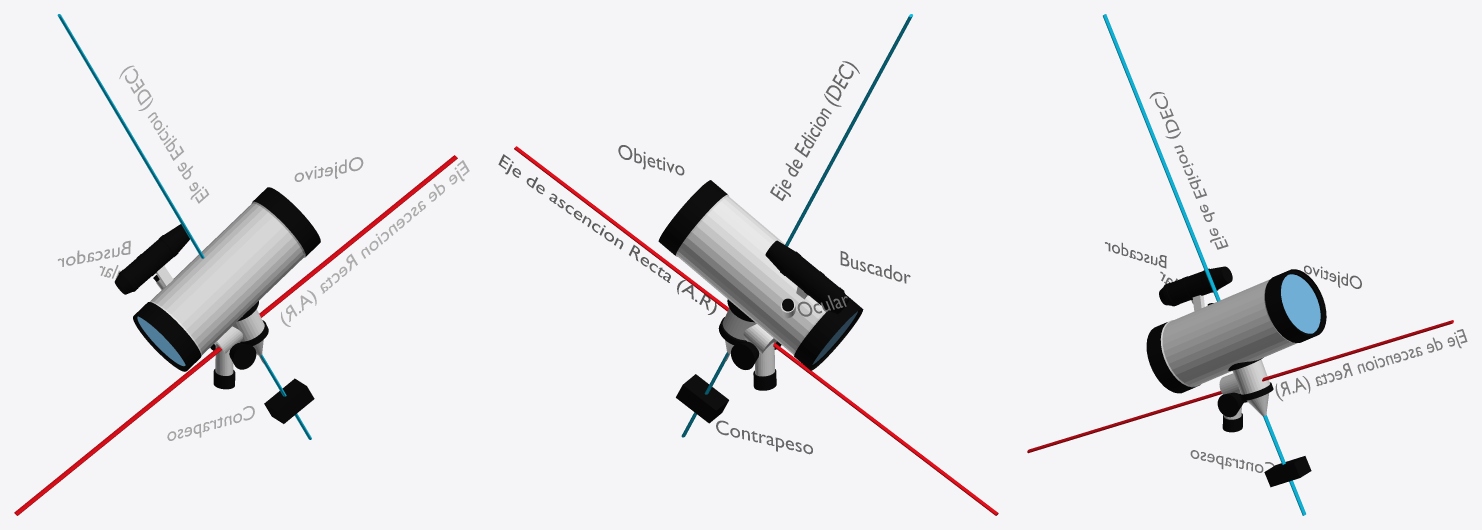
3 views of the same model, side by side, from view 1: azimuth 30°, elevation 25°; view 2: azimuth 150°, elevation 25°; view 3: azimuth 330°, elevation 25° (orthographic). The views are drawn at different scales.
Visible parts, largest first — view 1: Cilindro, Cilindro.011, Cilindro.005, Cilindro.012, Cubo.001, Texto.005, Texto.001, Cilindro.014, Cilindro.002; view 2: Cilindro, Cilindro.011, Cilindro.005, Cubo.001, Cilindro.012, Texto.005, Texto.001, Cilindro.014; view 3: Cilindro, Cilindro.012, Cilindro.011, Cilindro.005, Texto.005, Texto.001, Cubo.001, Cilindro.002, Cilindro.014.
Boxes of the visible parts, left/top/right/bottom form: Cilindro: left=133, top=187, right=320, bottom=371; Cilindro.011: left=14, top=155, right=457, bottom=515; Cilindro.005: left=114, top=224, right=189, bottom=294; Cilindro.012: left=57, top=14, right=311, bottom=439; Cubo.001: left=264, top=378, right=314, bottom=423; Texto.005: left=281, top=160, right=469, bottom=326; Texto.001: left=119, top=65, right=209, bottom=203; Cilindro.014: left=210, top=343, right=256, bottom=369; Cilindro.002: left=232, top=309, right=264, bottom=341; Cilindro: left=658, top=180, right=863, bottom=370; Cilindro.011: left=514, top=146, right=998, bottom=515; Cilindro.005: left=765, top=240, right=848, bottom=314; Cubo.001: left=676, top=374, right=728, bottom=423; Cilindro.012: left=681, top=14, right=912, bottom=437; Texto.005: left=498, top=154, right=716, bottom=314; Texto.001: left=770, top=61, right=859, bottom=200; Cilindro.014: left=731, top=341, right=781, bottom=369; Cilindro: left=1146, top=269, right=1326, bottom=393; Cilindro.012: left=1103, top=14, right=1305, bottom=515; Cilindro.011: left=1027, top=320, right=1453, bottom=453; Cilindro.005: left=1159, top=266, right=1232, bottom=306; Texto.005: left=1275, top=329, right=1467, bottom=401; Texto.001: left=1149, top=92, right=1228, bottom=249; Cubo.001: left=1264, top=456, right=1311, bottom=487; Cilindro.002: left=1232, top=359, right=1269, bottom=394; Cilindro.014: left=1217, top=392, right=1247, bottom=417.
Bounding box in the file's own units: 4.23 × 4.12 × 0.7201.
